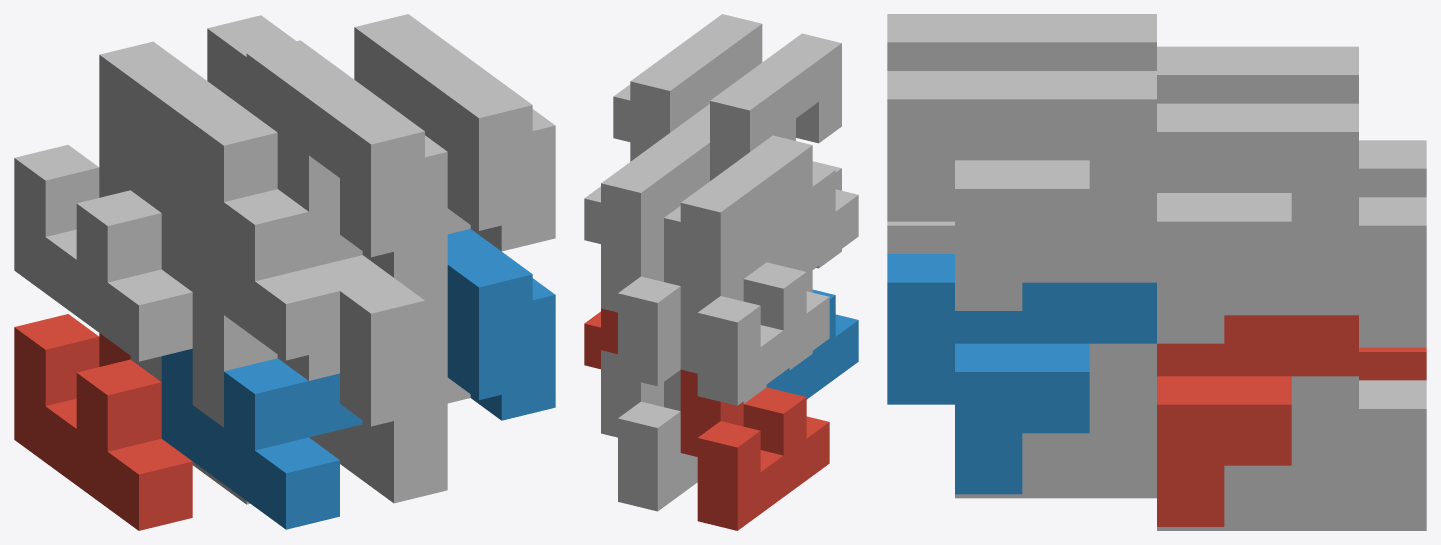
The model's file is tiling.obj.
3 views of the same model, side by side, from view 1: azimuth 30°, elevation 25°; view 2: azimuth 150°, elevation 25°; view 3: azimuth 270°, elevation 25° (orthographic). The views are drawn at different scales.
Parts seen in each view (by area): view 1: copy_2_domain_4, copy_1_domain_3, copy_2_domain_8, copy_1_domain_1, copy_1_domain_4, copy_1_domain_2, copy_2_domain_3, copy_2_domain_2, copy_2_domain_6, copy_1_domain_6, copy_2_domain_1, copy_2_domain_7 (+1 smaller); view 2: copy_1_domain_3, copy_1_domain_1, copy_2_domain_3, copy_2_domain_4, copy_1_domain_7, copy_2_domain_8, copy_1_domain_5, copy_2_domain_7, copy_1_domain_4, copy_1_domain_2, copy_2_domain_5, copy_2_domain_1 (+2 smaller); view 3: copy_2_domain_8, copy_2_domain_6, copy_2_domain_7, copy_2_domain_5, copy_1_domain_5, copy_1_domain_7, copy_2_domain_4, copy_1_domain_6, copy_2_domain_3, copy_1_domain_8, copy_1_domain_3, copy_1_domain_1 (+1 smaller).
Boxes of the visible parts, left/top/right/bottom form: copy_2_domain_4: left=246, top=40, right=447, bottom=277; copy_1_domain_3: left=14, top=111, right=192, bottom=361; copy_2_domain_8: left=354, top=14, right=555, bottom=251; copy_1_domain_1: left=14, top=314, right=192, bottom=530; copy_1_domain_4: left=161, top=157, right=362, bottom=360; copy_1_domain_2: left=161, top=348, right=362, bottom=529; copy_2_domain_3: left=99, top=41, right=277, bottom=258; copy_2_domain_2: left=277, top=255, right=447, bottom=446; copy_2_domain_6: left=447, top=229, right=555, bottom=420; copy_1_domain_6: left=309, top=378, right=470, bottom=503; copy_2_domain_1: left=130, top=292, right=277, bottom=427; copy_2_domain_7: left=207, top=15, right=296, bottom=109; copy_1_domain_3: left=680, top=237, right=829, bottom=405; copy_1_domain_1: left=680, top=369, right=829, bottom=530; copy_2_domain_3: left=664, top=135, right=812, bottom=278; copy_2_domain_4: left=693, top=33, right=841, bottom=151; copy_1_domain_7: left=601, top=218, right=680, bottom=386; copy_2_domain_8: left=613, top=14, right=762, bottom=141; copy_1_domain_5: left=601, top=350, right=697, bottom=511; copy_2_domain_7: left=584, top=116, right=709, bottom=243; copy_1_domain_4: left=710, top=142, right=858, bottom=274; copy_1_domain_2: left=766, top=289, right=858, bottom=399; copy_2_domain_5: left=584, top=308, right=617, bottom=369; copy_2_domain_1: left=664, top=270, right=812, bottom=403; copy_2_domain_8: left=887, top=71, right=1156, bottom=310; copy_2_domain_6: left=887, top=254, right=1156, bottom=494; copy_2_domain_7: left=1157, top=103, right=1358, bottom=343; copy_2_domain_5: left=1157, top=315, right=1358, bottom=526; copy_1_domain_5: left=1157, top=376, right=1426, bottom=530; copy_1_domain_7: left=1224, top=193, right=1426, bottom=347; copy_2_domain_4: left=887, top=14, right=1156, bottom=70; copy_1_domain_6: left=955, top=343, right=1156, bottom=498; copy_2_domain_3: left=1157, top=46, right=1358, bottom=103; copy_1_domain_8: left=1022, top=160, right=1156, bottom=282; copy_1_domain_3: left=1359, top=140, right=1426, bottom=197; copy_1_domain_1: left=1359, top=347, right=1426, bottom=380.
Bounding box in the file's own units: 6 × 8 × 8.
